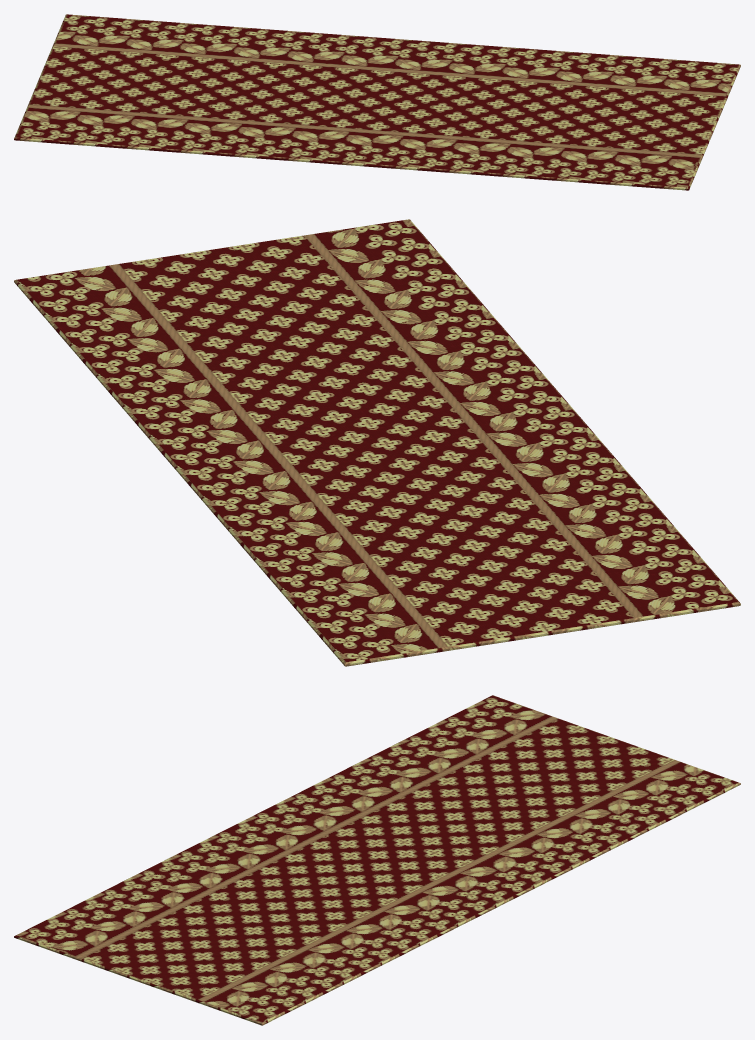
The model's file is opulent_rug.glb.
3 renders of one model, top to bottom at view 1: azimuth 30°, elevation 25°; view 2: azimuth 150°, elevation 25°; view 3: azimuth 270°, elevation 25°, orthographic. The views are drawn at different scales.
Parts seen in each view (by area): view 1: Rug; view 2: Rug; view 3: Rug.
Part boxes in pixels (left/top/right/bottom): Rug: left=14, top=14, right=740, bottom=190; Rug: left=14, top=219, right=740, bottom=666; Rug: left=14, top=695, right=740, bottom=1025.
Bounding box in the file's own units: 14.46 × 0.0679 × 13.5.
Materials: 1 (1 with a texture image).
